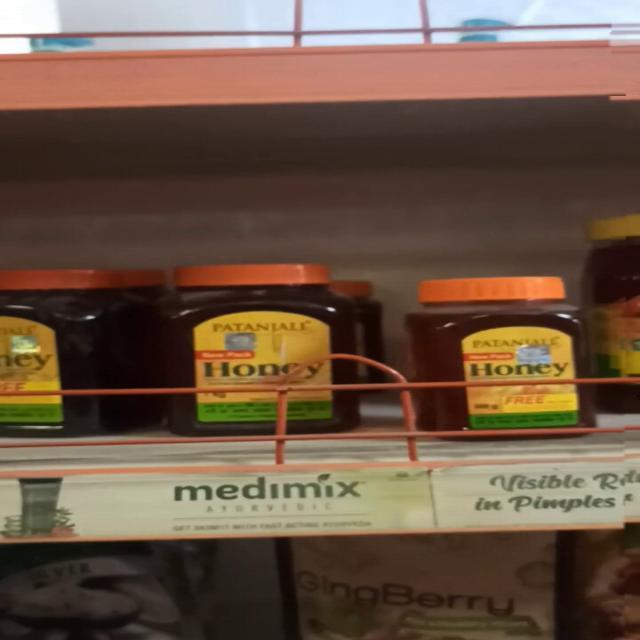Patanjali Honey: (412, 276, 607, 450), (174, 262, 350, 438)
